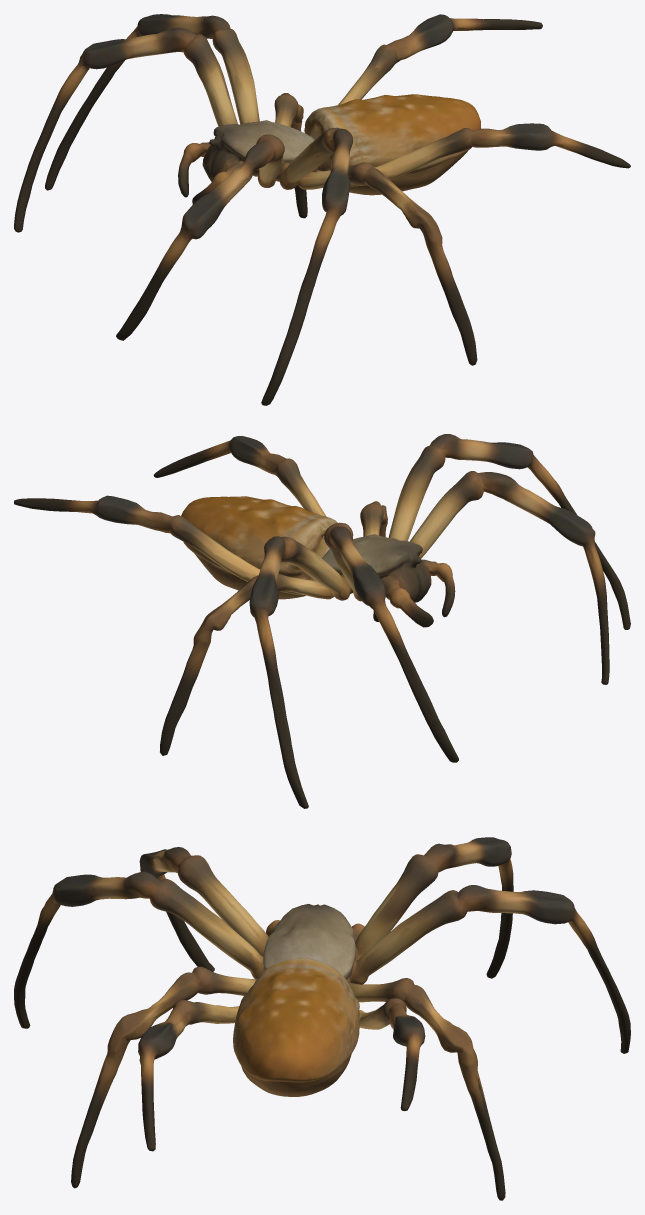
File: araña_estática.fbx
The picture shows the model from 3 angles, top to bottom: view 1: azimuth 30°, elevation 25°; view 2: azimuth 150°, elevation 25°; view 3: azimuth 270°, elevation 25°; orthographic projection. The views are drawn at different scales.
Parts seen in each view (by area): view 1: tripo_node_30b3cb15; view 2: tripo_node_30b3cb15; view 3: tripo_node_30b3cb15.
Part boxes in pixels (<box>): tripo_node_30b3cb15: <box>14,14,630,405</box>; tripo_node_30b3cb15: <box>14,434,630,808</box>; tripo_node_30b3cb15: <box>14,837,630,1200</box>.
Bounding box in the file's own units: 1.02 × 0.4689 × 0.9609.
